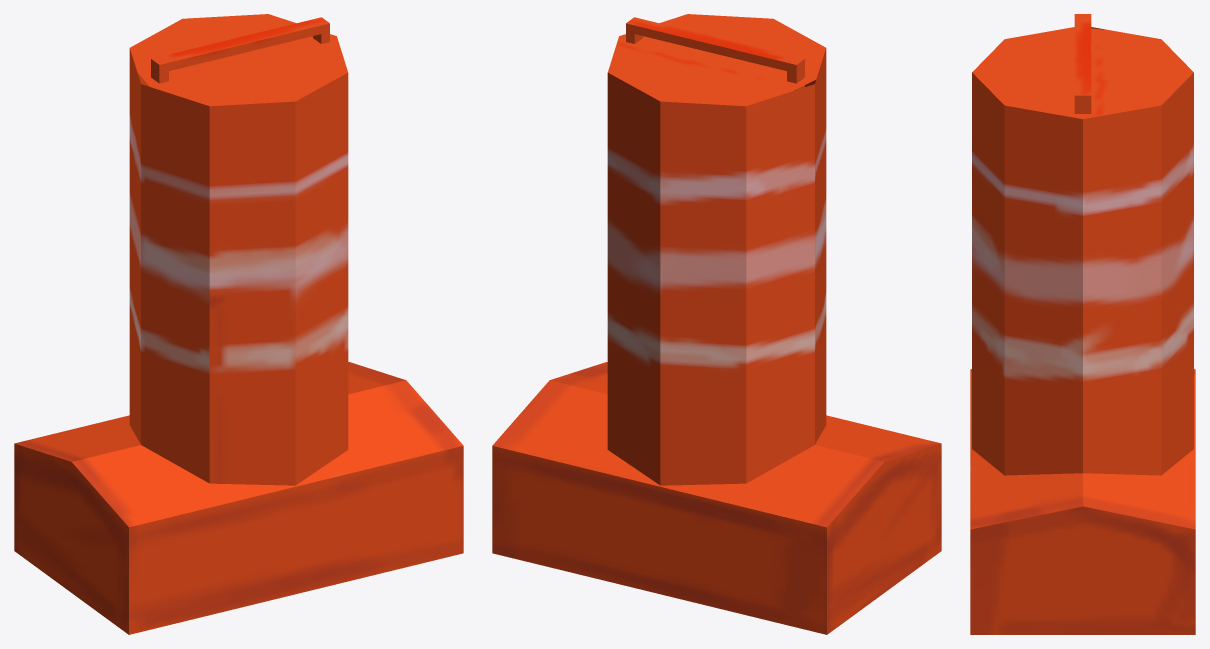
File: Obstaculo1.fbx
3 renders of one model, left to right at view 1: azimuth 30°, elevation 25°; view 2: azimuth 150°, elevation 25°; view 3: azimuth 270°, elevation 25°, orthographic.
Parts seen in each view (by area): view 1: Obstaculo1; view 2: Obstaculo1; view 3: Obstaculo1.
Part boxes in pixels (x1,y1,x2,y2): Obstaculo1: (14, 14, 463, 634); Obstaculo1: (492, 14, 941, 634); Obstaculo1: (970, 14, 1195, 634).
Bounding box in the file's own units: 42.03 × 61.26 × 24.94.
1 material, 1 textured.
